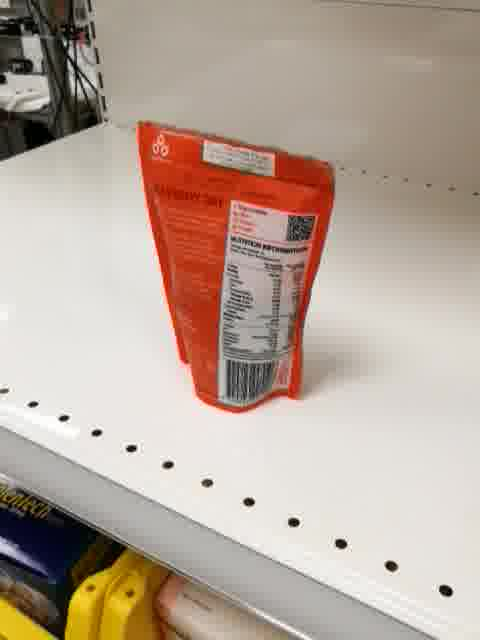whitechia: (133, 115, 337, 416)
